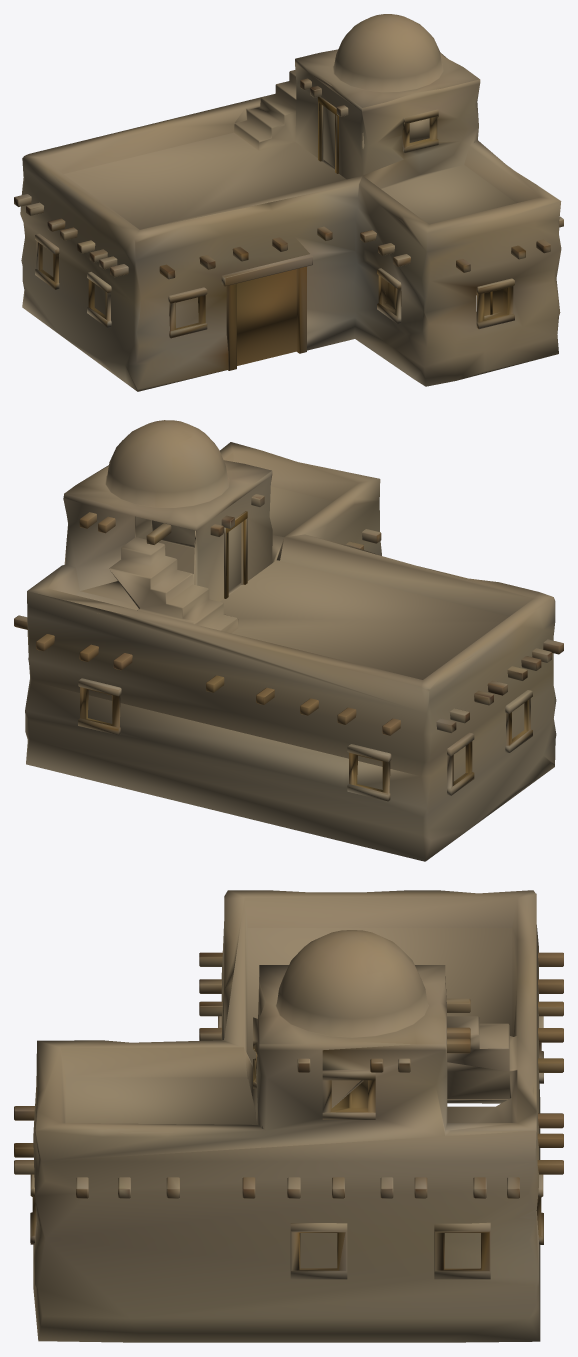
Rendered from building-10.fbx.
3 renders of one model, top to bottom at view 1: azimuth 30°, elevation 25°; view 2: azimuth 150°, elevation 25°; view 3: azimuth 270°, elevation 25°, orthographic. The views are drawn at different scales.
Parts seen in each view (by area): view 1: Gemini_Generated_Image_x12utgx_Polygonal_building_with_dome_; view 2: Gemini_Generated_Image_x12utgx_Polygonal_building_with_dome_; view 3: Gemini_Generated_Image_x12utgx_Polygonal_building_with_dome_.
Part boxes in pixels (bbox=[...]): Gemini_Generated_Image_x12utgx_Polygonal_building_with_dome_: bbox=[14, 14, 563, 391]; Gemini_Generated_Image_x12utgx_Polygonal_building_with_dome_: bbox=[14, 420, 563, 861]; Gemini_Generated_Image_x12utgx_Polygonal_building_with_dome_: bbox=[14, 890, 563, 1342].
Size of the model in its own units: 4940 by 3209 by 4371.
